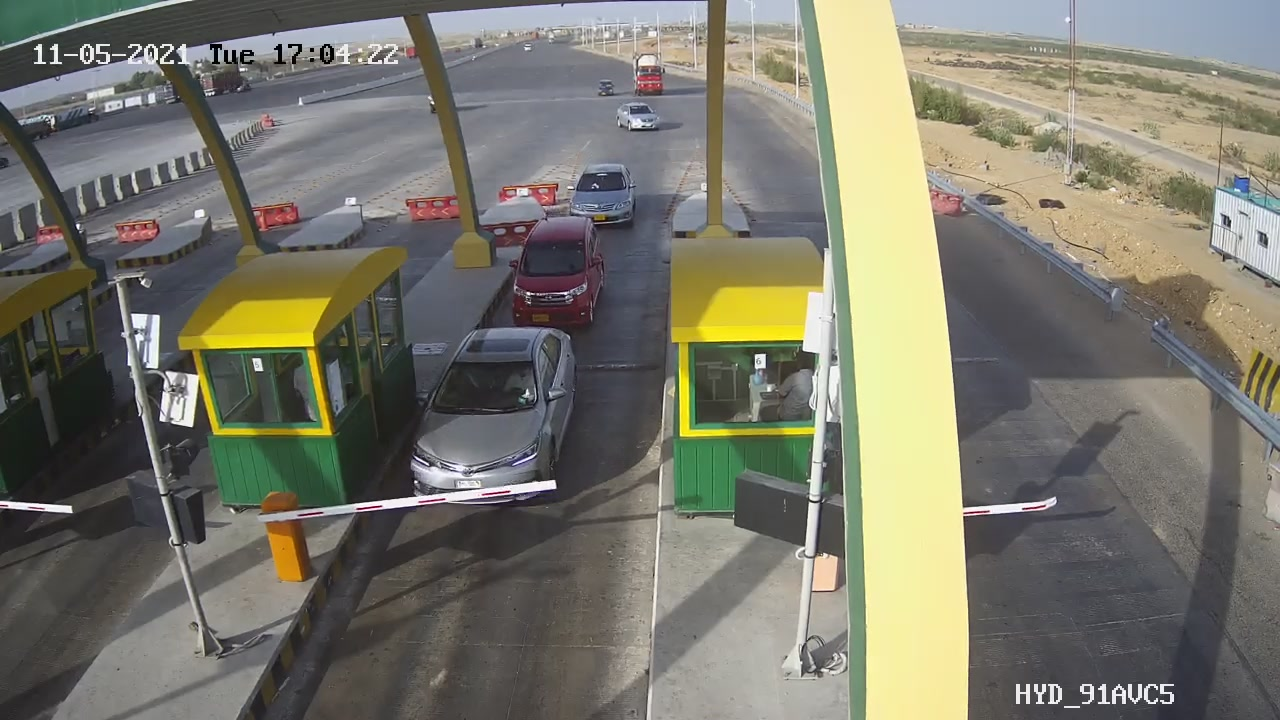F1: (394, 311, 607, 526), (498, 207, 634, 347)
